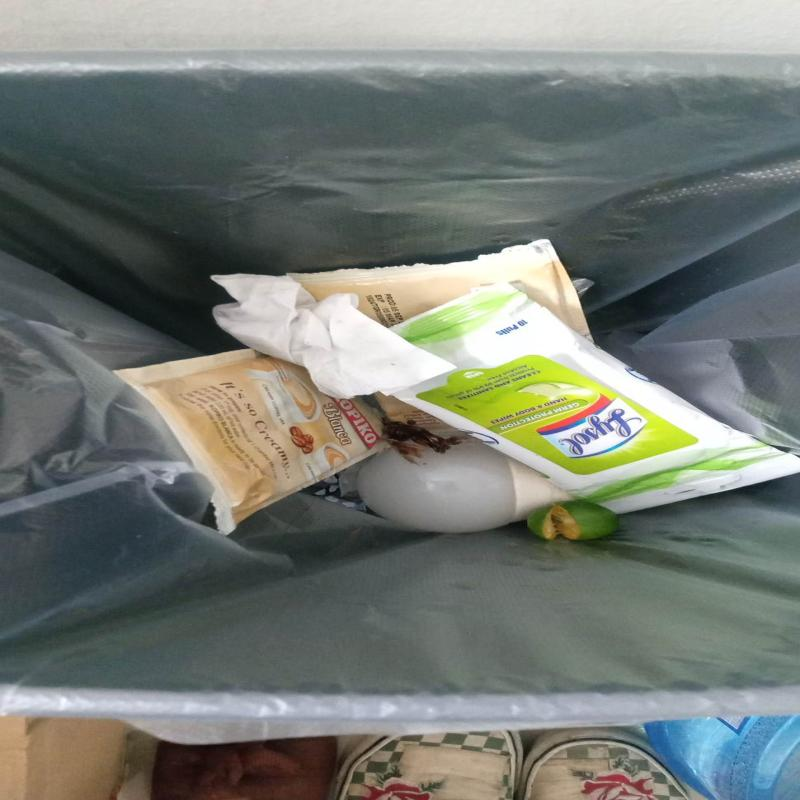left-over food: (522, 500, 620, 543)
paper: (210, 274, 459, 400)
plastic sachet: (386, 284, 800, 515), (112, 349, 392, 536), (288, 240, 594, 342)
